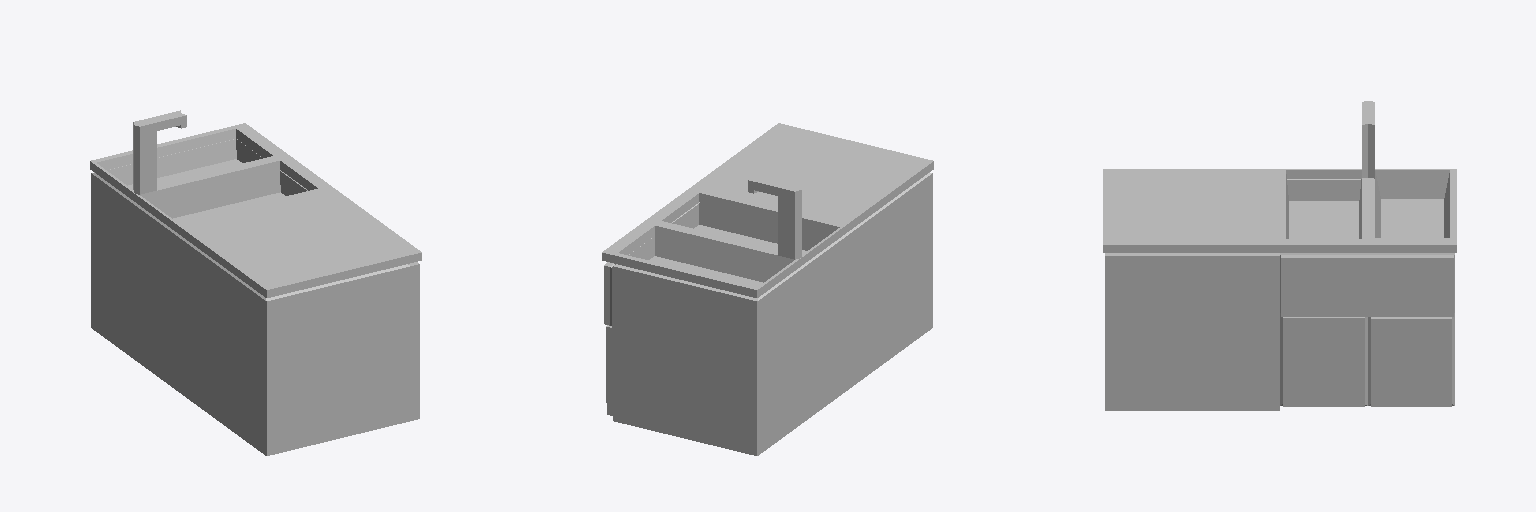
The model's file is KitchenDrawers_Sink.obj.
The picture shows the model from 3 angles: view 1: azimuth 30°, elevation 25°; view 2: azimuth 150°, elevation 25°; view 3: azimuth 270°, elevation 25°; orthographic projection.
Visible parts, largest first — view 1: Cube; view 2: Cube; view 3: Cube.
Part boxes in pixels (x1,y1,x2,y2): Cube: (90,110,421,455); Cube: (602,123,933,455); Cube: (1103,101,1456,410).
Bounding box in the file's own units: 3.8 × 5.49 × 7.49.